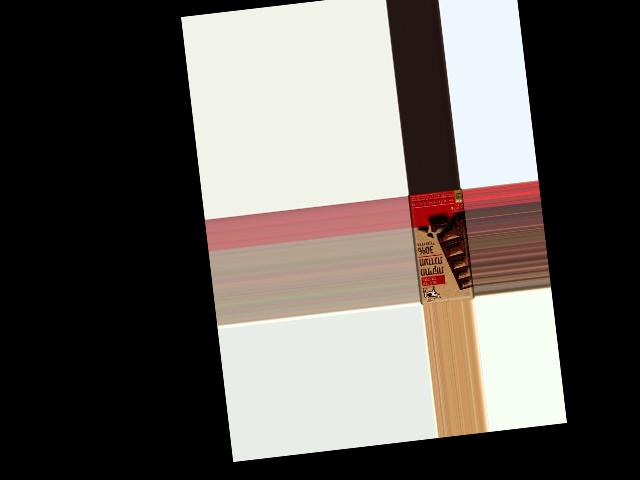chocolate: (407, 189, 474, 305)
